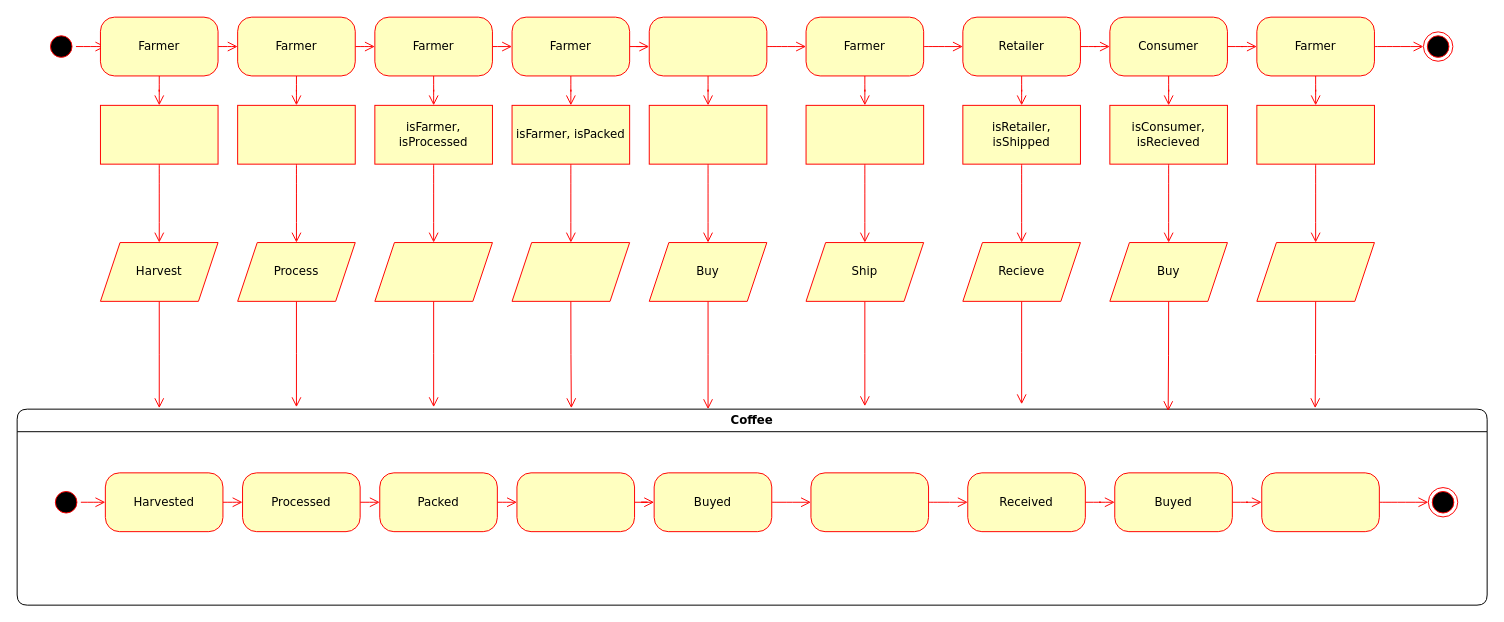
The diagram is 1504 pixels wide and 622 high, and some of its shapes have lost their labels. Each missing label, with the centre of its shape:
"Add" goes at pixel 570 271.
"Added" goes at pixel 575 502.
"Distributor" goes at pixel 707 46.
"Fetch" goes at pixel 1315 271.
"Fetched" goes at pixel 1320 502.
"isDistributor, isAdded" goes at pixel 707 134.
"isFarmer" goes at pixel 158 134.
"isFarmer, isBuyed" goes at pixel 864 134.
"isFarmer, isHarvested" goes at pixel 296 134.
"isFarmer,isBuyed" goes at pixel 1315 134.
"Pack" goes at pixel 433 271.
"Shipped" goes at pixel 869 502.
